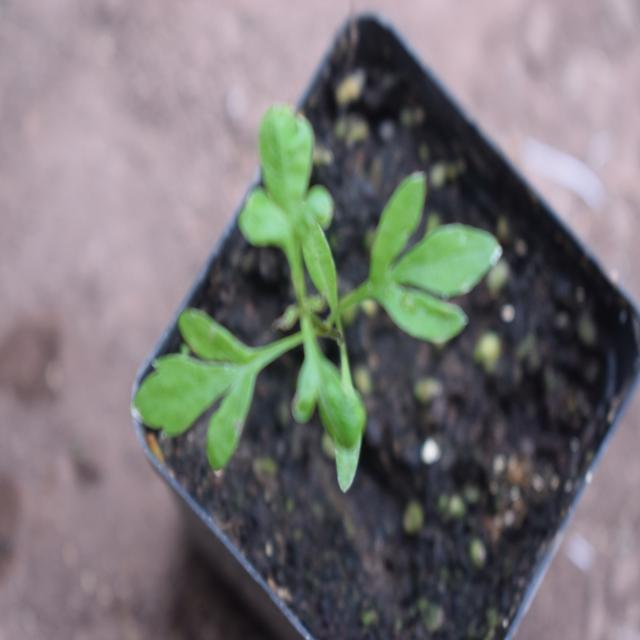Bidens pilosa: (128, 116, 490, 473)
